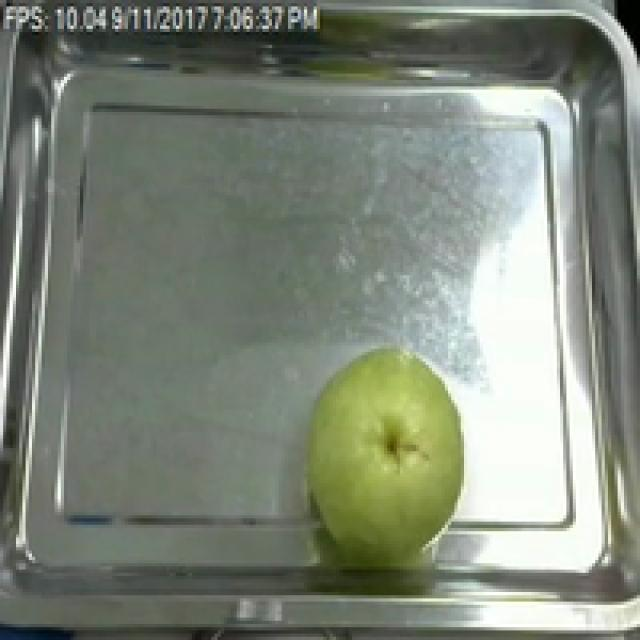Fruit: (294, 339, 477, 560)
